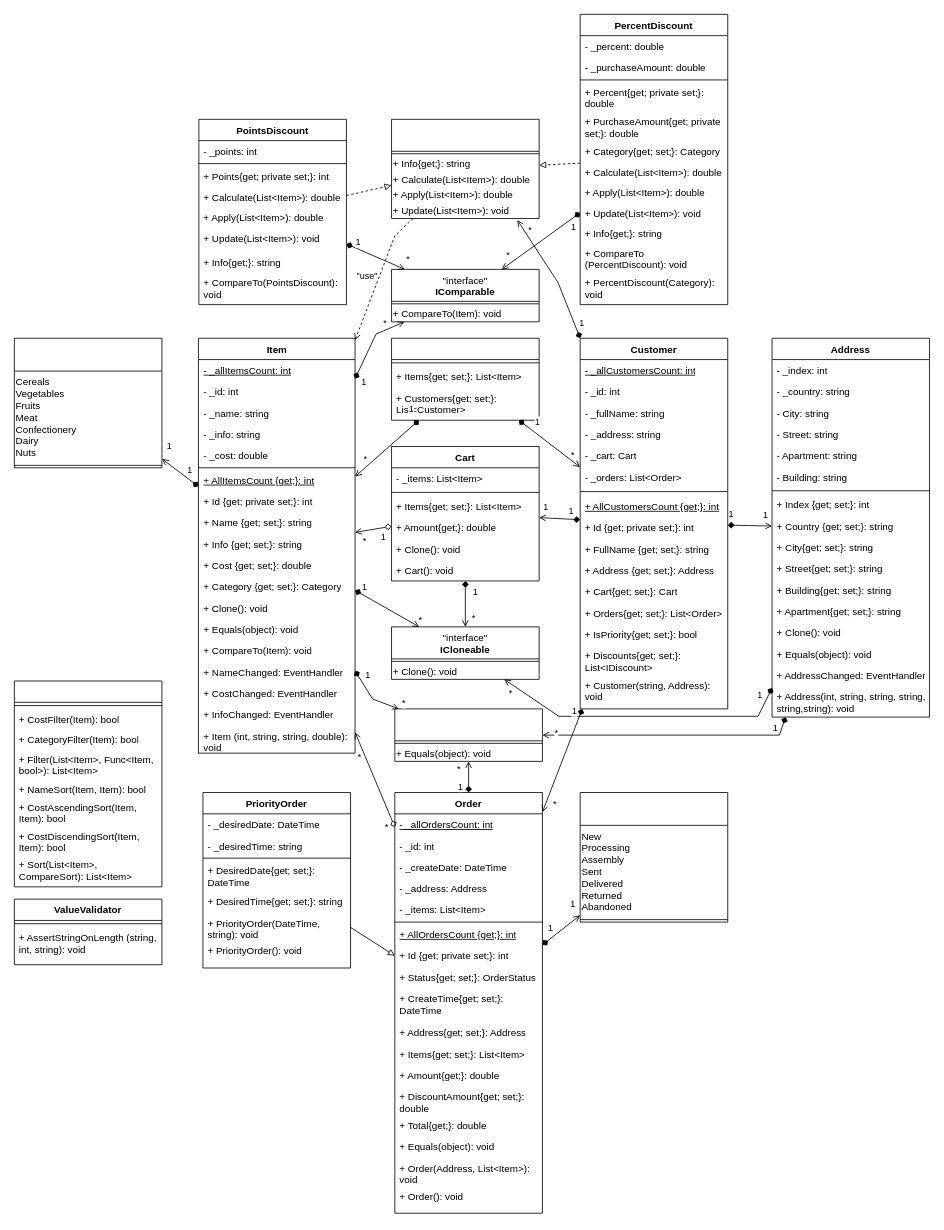
Some shapes in this 944 by 1230 pixel diagram are drawn without their labels. Each missing label, with the box of its shape:
"enumeration" Category: (14, 337, 162, 468)
"enumeration" OrderStatus: (579, 792, 728, 922)
"interface" IDiscount: (391, 118, 539, 219)
"interface" IEquatable: (394, 708, 542, 761)
DataTools: (14, 680, 162, 887)
Store: (391, 337, 539, 420)
